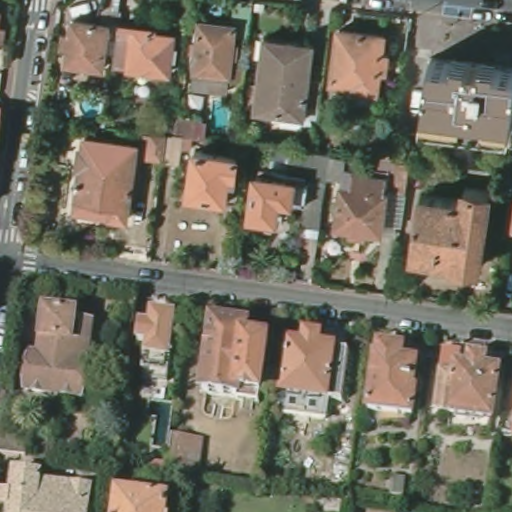pool: (146, 394, 173, 452), (204, 97, 237, 133), (78, 91, 105, 119)
